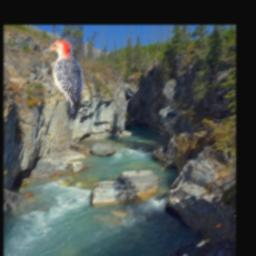Woodpecker: (42, 39, 84, 120)
